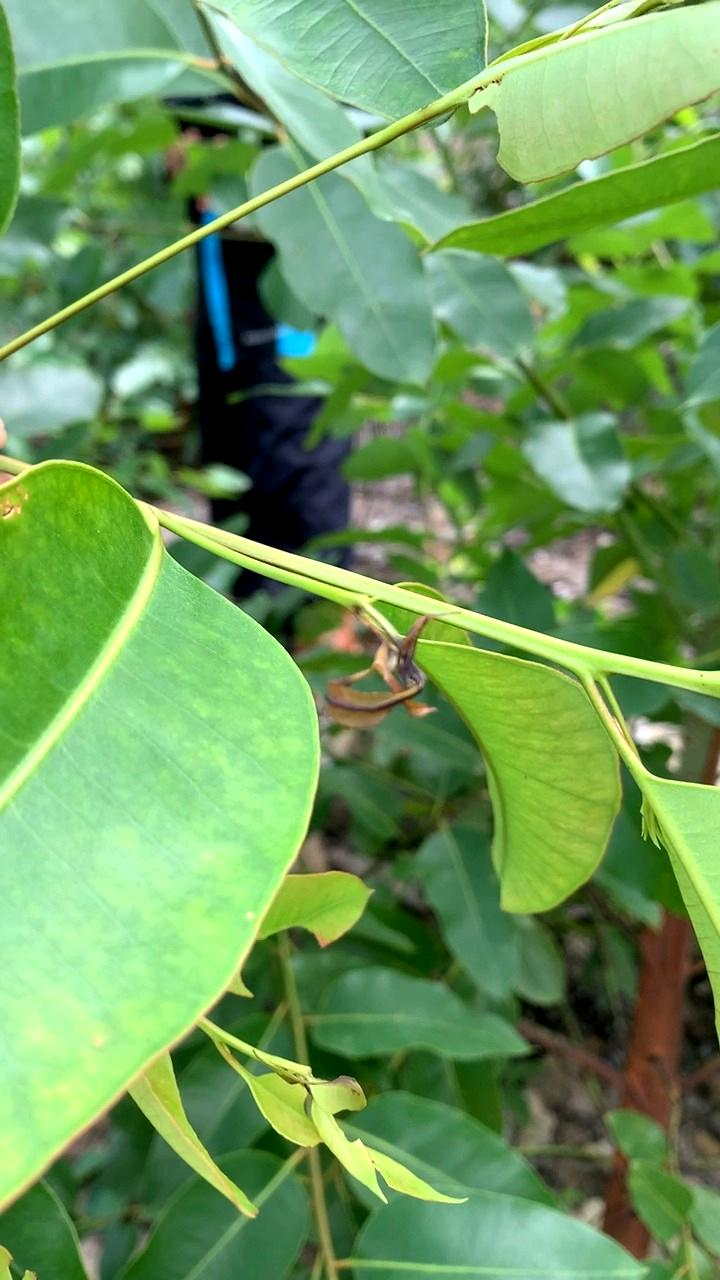Helopeltis-Withered Sprout: (326, 618, 447, 733)
